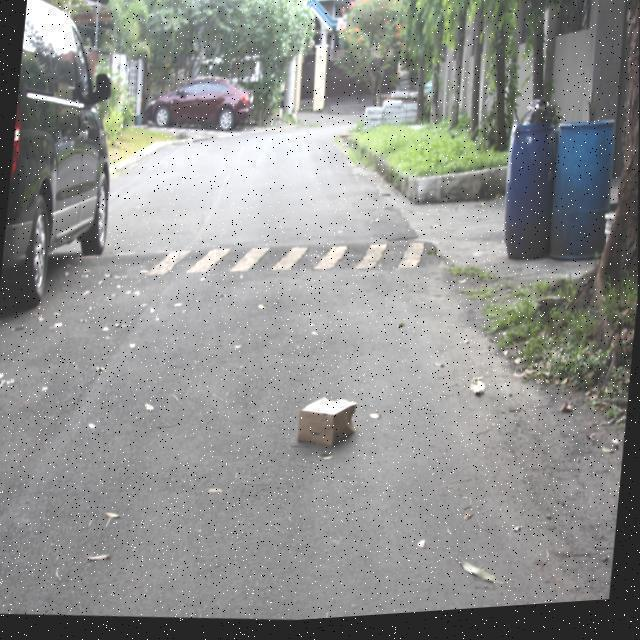Paper_Bag: (297, 398, 360, 454)
